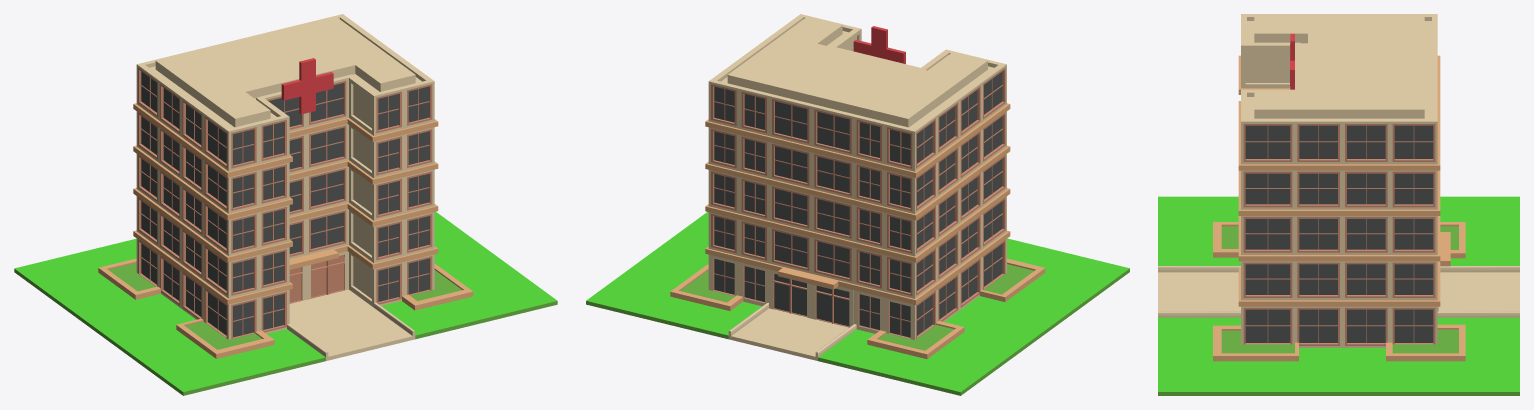
The model's file is infrastructure-building-hospital.fbx.
3 views of the same model, side by side, from view 1: azimuth 30°, elevation 25°; view 2: azimuth 150°, elevation 25°; view 3: azimuth 270°, elevation 25° (orthographic). The views are drawn at different scales.
Parts seen in each view (by area): view 1: infrastructure-building-hospital, hospital-floor; view 2: infrastructure-building-hospital, hospital-floor; view 3: infrastructure-building-hospital, hospital-floor.
Boxes of the visible parts, x1,y1,x2,y2 form: infrastructure-building-hospital: [98, 14, 473, 358]; hospital-floor: [14, 211, 557, 395]; infrastructure-building-hospital: [670, 14, 1045, 358]; hospital-floor: [586, 212, 1129, 395]; infrastructure-building-hospital: [1213, 14, 1465, 361]; hospital-floor: [1158, 196, 1519, 395].
Size of the model in its own units: 25.7 by 15.98 by 20.1.
